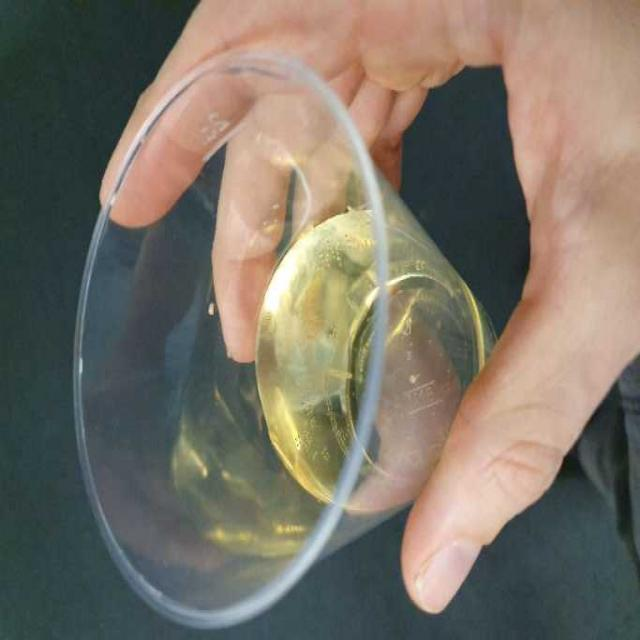wine-white: (274, 209, 487, 561)
